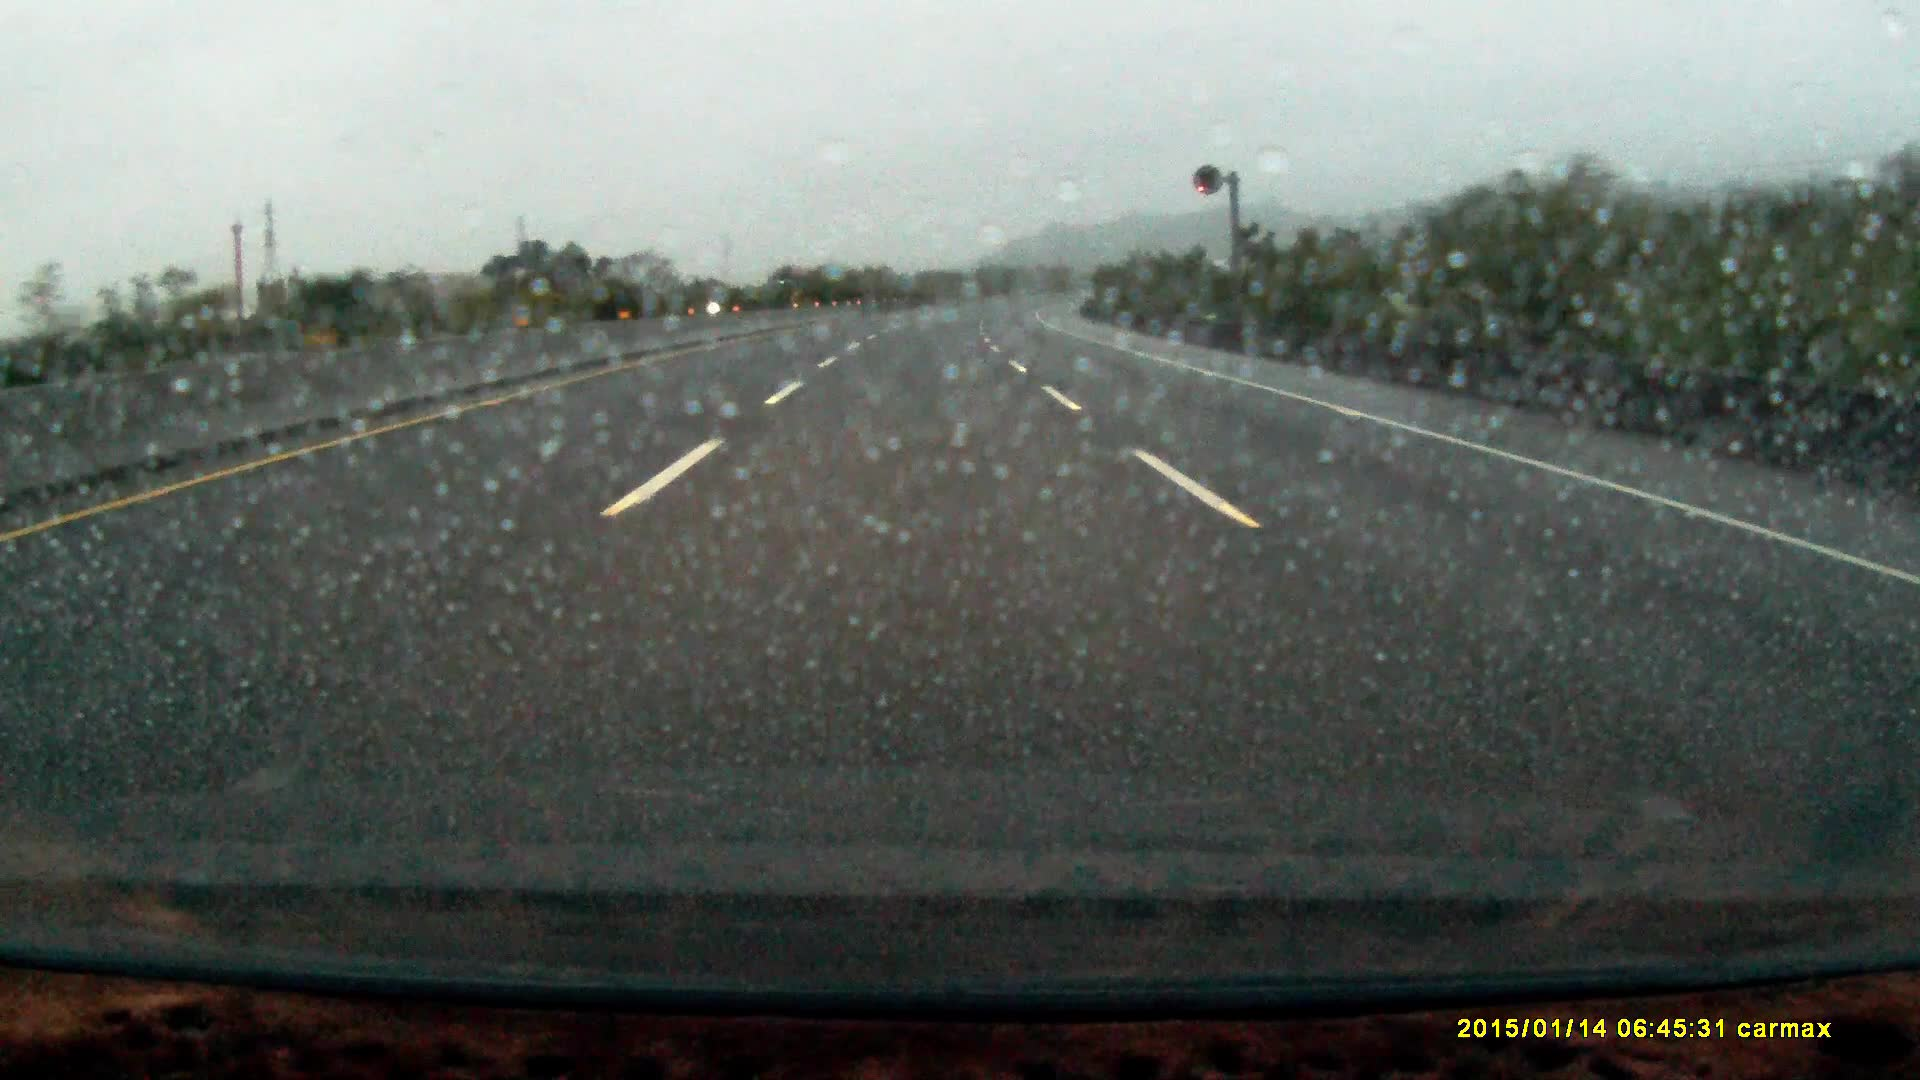vehicle: (773, 265, 814, 305)
